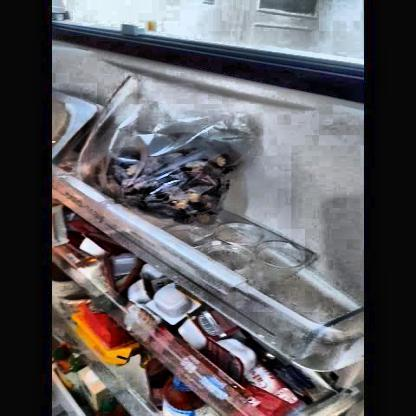butter: (69, 308, 126, 360)
dates: (100, 125, 238, 216)
milk: (76, 366, 107, 406)
